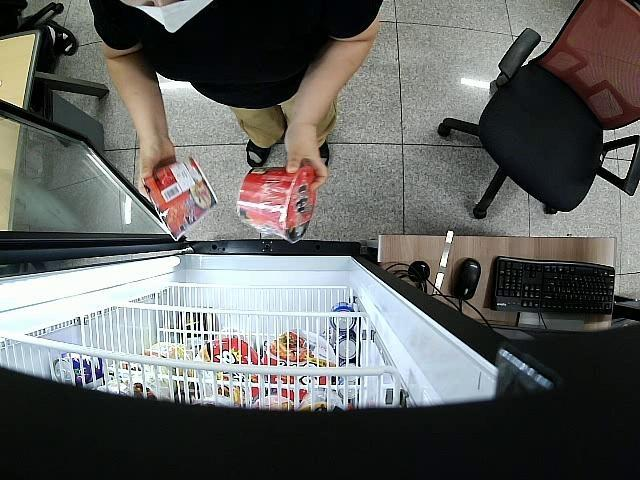01_ShinRamen_L: (142, 156, 218, 240), (238, 166, 316, 244)
